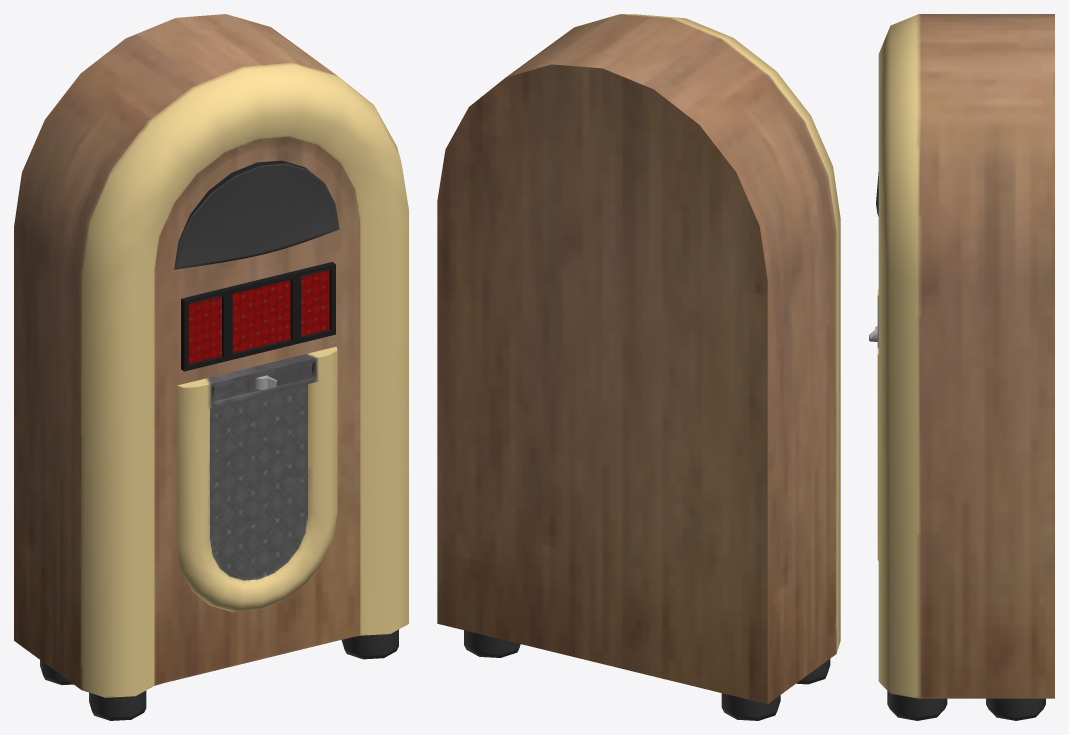
The model's file is SM_Bar_Jukebox.fbx.
3 views of the same model, side by side, from view 1: azimuth 30°, elevation 25°; view 2: azimuth 150°, elevation 25°; view 3: azimuth 270°, elevation 25° (orthographic). The views are drawn at different scales.
Parts seen in each view (by area): view 1: Mesh; view 2: Mesh; view 3: Mesh.
Part boxes in pixels (box(x1,y1,x2,y2)): Mesh: box(14, 14, 408, 720); Mesh: box(437, 14, 840, 720); Mesh: box(869, 14, 1054, 720).
Bounding box in the file's own units: 1.01 × 1.83 × 0.4976.
1 material, 1 textured.
